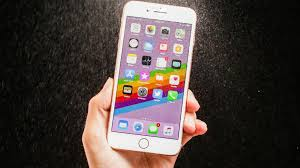iphone8: (98, 1, 198, 160)
